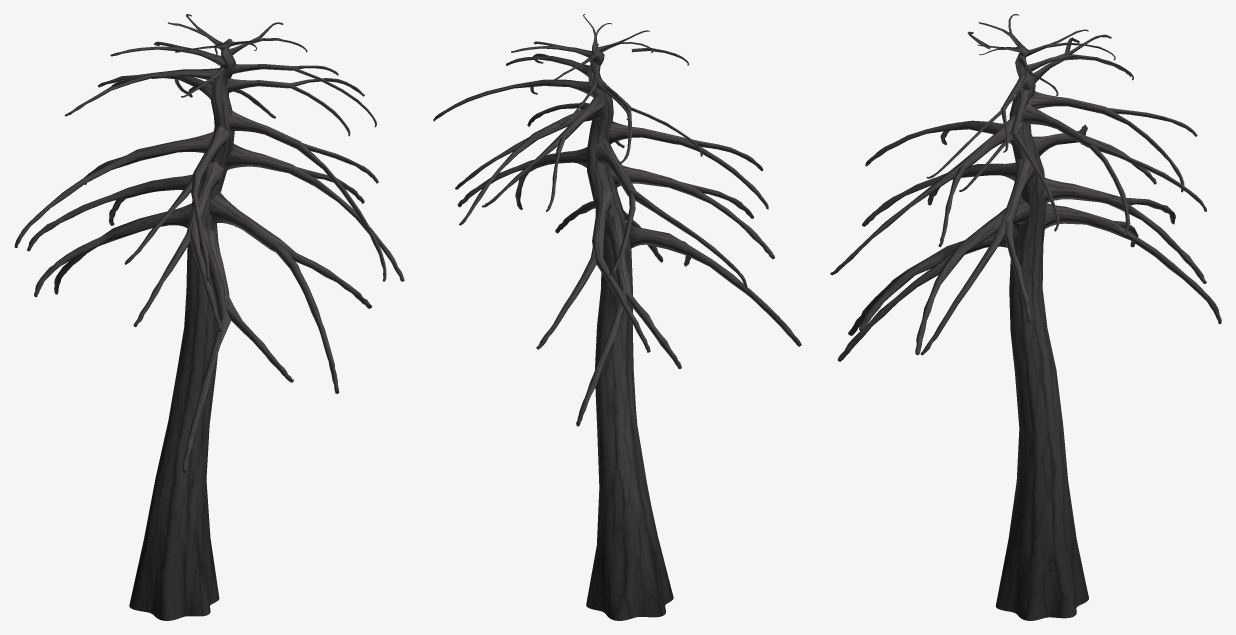
The model's file is tree-dead-1.glb.
3 renders of one model, left to right at view 1: azimuth 30°, elevation 25°; view 2: azimuth 150°, elevation 25°; view 3: azimuth 270°, elevation 25°, orthographic. The views are drawn at different scales.
Visible parts, largest first — view 1: DeadTree_4; view 2: DeadTree_4; view 3: DeadTree_4.
Part boxes in pixels (bbox=[...]): DeadTree_4: bbox=[14, 14, 404, 620]; DeadTree_4: bbox=[433, 14, 801, 620]; DeadTree_4: bbox=[830, 14, 1221, 620].
Bounding box in the file's own units: 7.96 × 12.77 × 7.73.
1 material, 1 textured.
